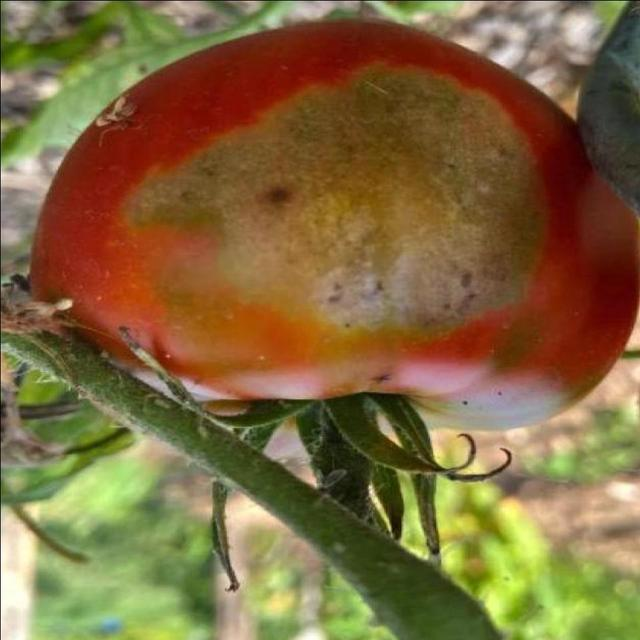Sunscald Fruit: (74, 46, 390, 244)
